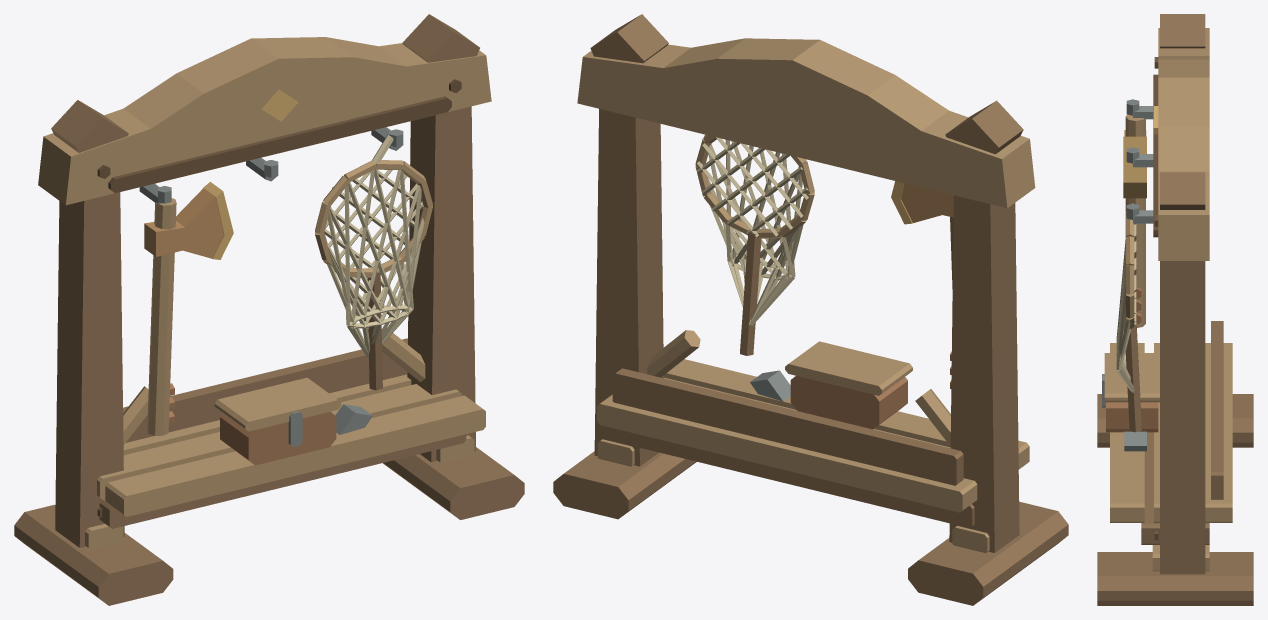
The model's file is holm_provisions_v2.glb.
3 renders of one model, left to right at view 1: azimuth 30°, elevation 25°; view 2: azimuth 150°, elevation 25°; view 3: azimuth 270°, elevation 25°, orthographic. The views are drawn at different scales.
Parts seen in each view (by area): view 1: ProvisionsRack, ProvisionNet, ProvisionHatchet, ProvisionTinderbox; view 2: ProvisionsRack, ProvisionNet, ProvisionTinderbox, ProvisionHatchet; view 3: ProvisionsRack, ProvisionTinderbox, ProvisionNet, ProvisionHatchet.
Boxes of the visible parts, x1=… form: ProvisionsRack: x1=14, y1=14, x2=524, y2=605; ProvisionNet: x1=315, y1=135, x2=432, y2=390; ProvisionHatchet: x1=144, y1=182, x2=233, y2=435; ProvisionTinderbox: x1=214, y1=377, x2=372, y2=465; ProvisionsRack: x1=553, y1=14, x2=1068, y2=605; ProvisionNet: x1=695, y1=134, x2=814, y2=355; ProvisionTinderbox: x1=750, y1=341, x2=912, y2=429; ProvisionHatchet: x1=891, y1=181, x2=953, y2=388; ProvisionsRack: x1=1097, y1=14, x2=1253, y2=605; ProvisionTinderbox: x1=1102, y1=353, x2=1159, y2=451; ProvisionNet: x1=1116, y1=203, x2=1141, y2=432; ProvisionHatchet: x1=1123, y1=114, x2=1146, y2=327.
Bounding box in the file's own units: 1.6 × 1.7 × 0.55.
